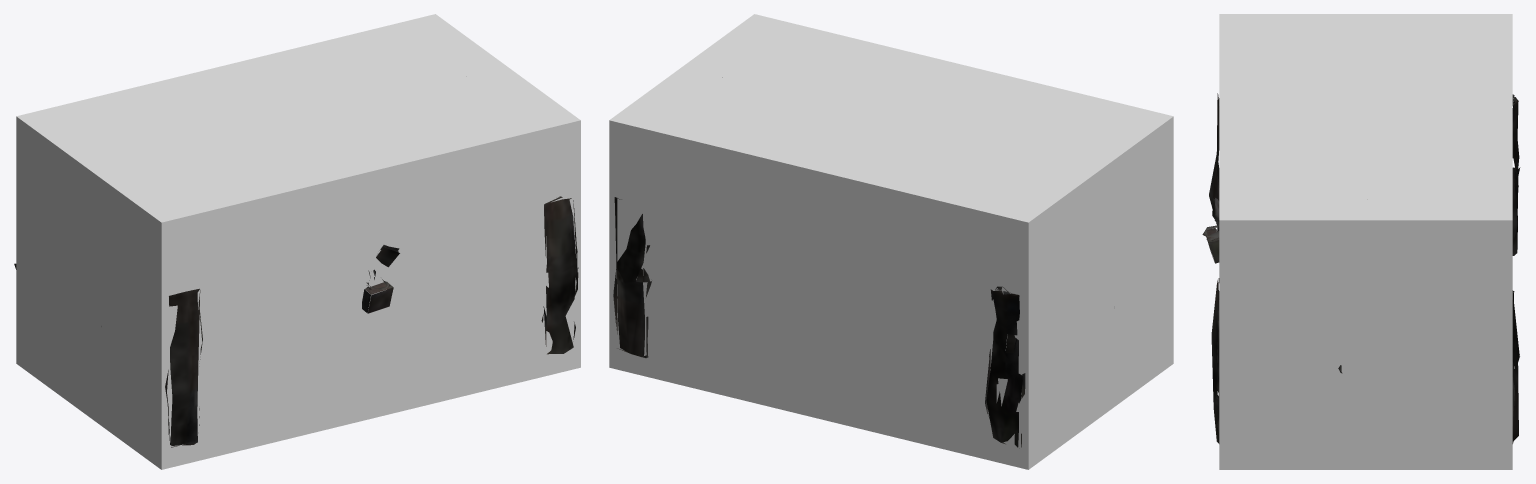
Rendered from iron_chest_lite_closed.glb.
The picture shows the model from 3 angles, left to right: view 1: azimuth 30°, elevation 25°; view 2: azimuth 150°, elevation 25°; view 3: azimuth 270°, elevation 25°; orthographic projection.
Parts seen in each view (by area): view 1: col_chest, body; view 2: col_chest, body; view 3: col_chest, body.
Part boxes in pixels (x1,y1,x2,y2): col_chest: (16,14,580,469); body: (14,196,578,447); col_chest: (609,14,1173,469); body: (613,197,1025,448); col_chest: (1219,14,1512,469); body: (1202,93,1520,443).
Bounding box in the file's own units: 1.1 × 0.6233 × 0.7185.
Materials: 1 (1 with a texture image).
